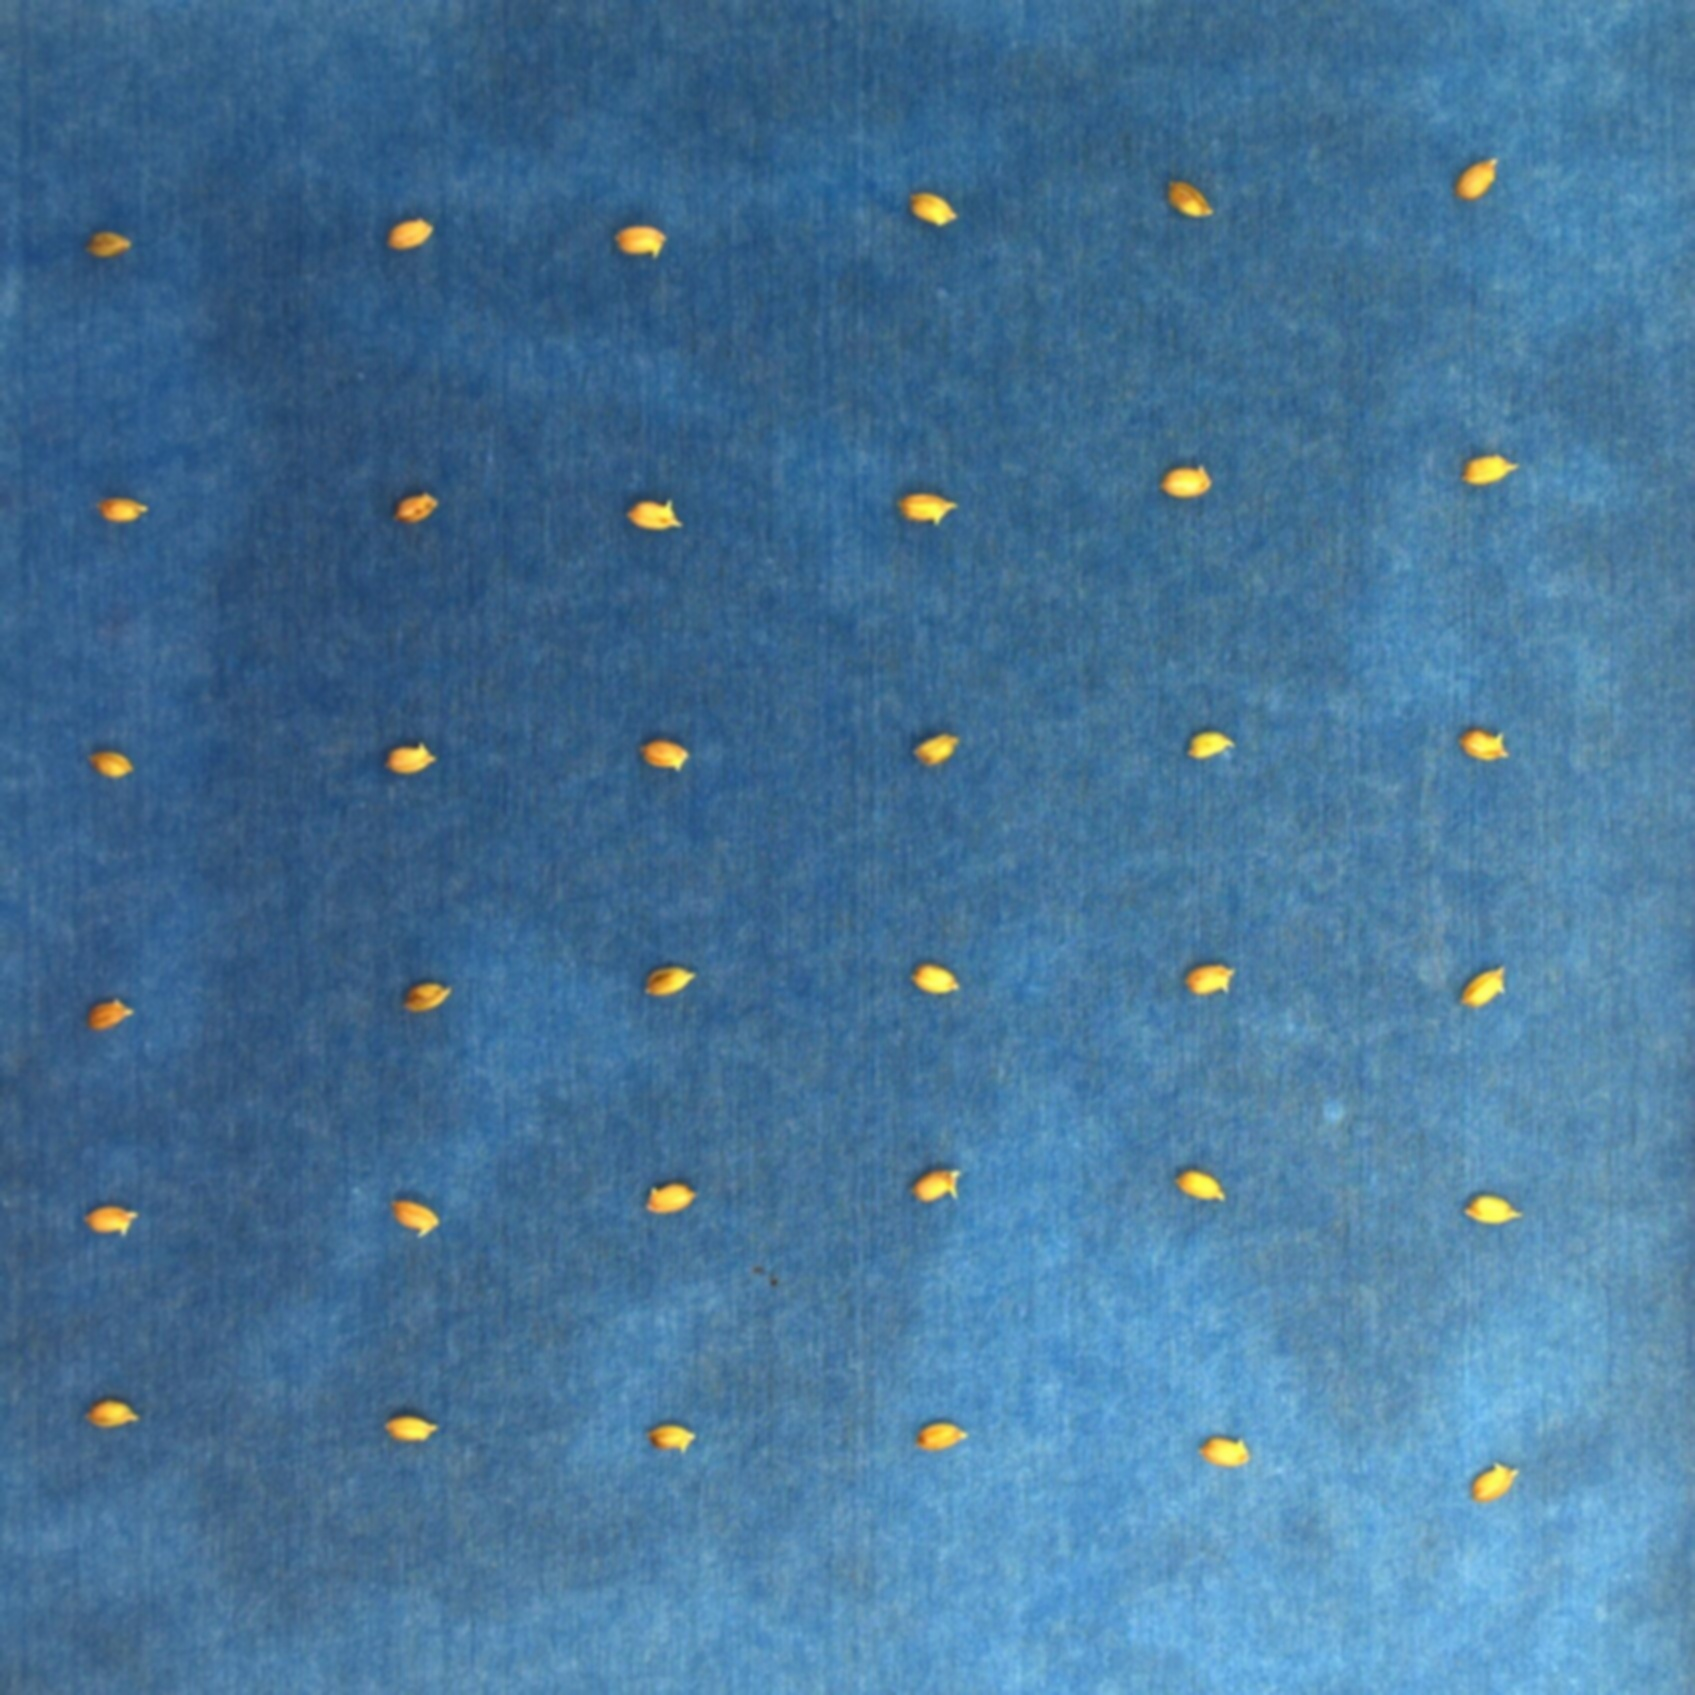not sprout: (889, 487, 962, 528), (1458, 959, 1512, 1010), (1169, 1163, 1229, 1208), (1163, 174, 1218, 220), (382, 1194, 442, 1236), (622, 494, 688, 532), (910, 1161, 965, 1205), (1180, 959, 1240, 998), (643, 1180, 703, 1218), (380, 740, 442, 778), (1156, 461, 1215, 500), (903, 189, 959, 230), (605, 224, 671, 258), (82, 993, 137, 1034), (1456, 725, 1512, 764), (643, 961, 698, 1000), (640, 736, 692, 776), (81, 1200, 140, 1236), (1454, 154, 1499, 200), (391, 487, 442, 528), (1462, 1192, 1523, 1226), (911, 1420, 972, 1454), (905, 962, 962, 998), (910, 730, 962, 768), (385, 214, 438, 251), (1467, 1465, 1520, 1503), (1183, 726, 1240, 761), (1197, 1433, 1251, 1468), (400, 978, 453, 1014), (379, 1416, 442, 1445), (1461, 453, 1520, 484), (643, 1423, 700, 1454), (82, 1399, 137, 1430), (96, 494, 151, 523), (82, 230, 132, 261), (92, 747, 133, 781)
